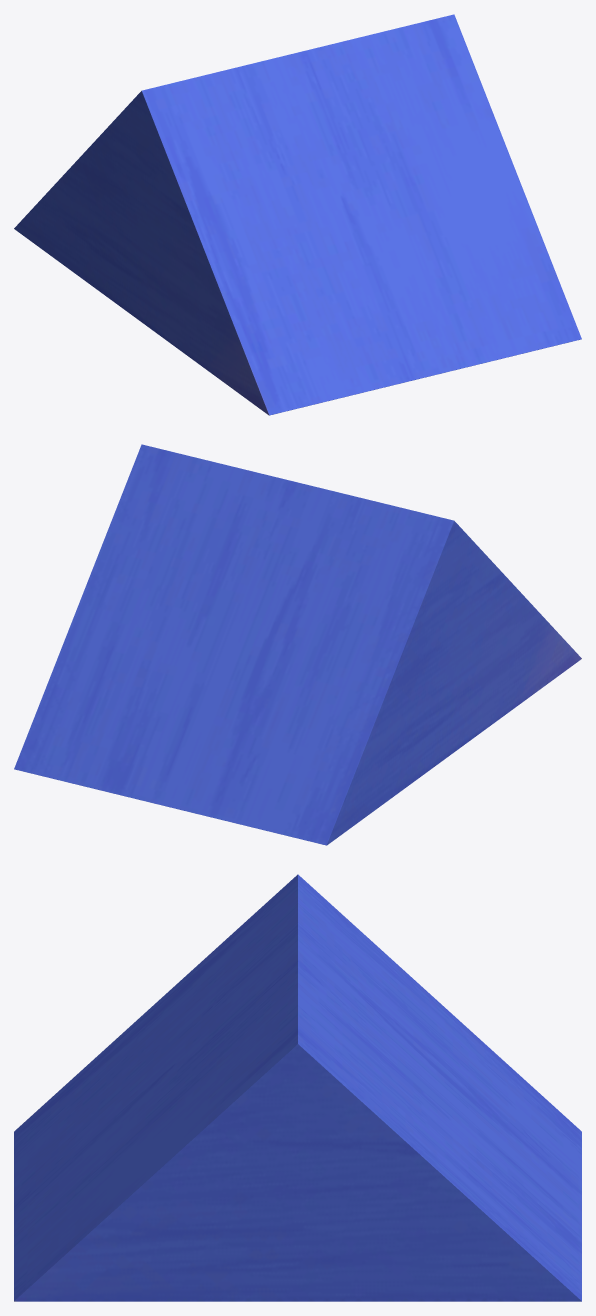
Rendered from TriangleBlock_Blue.fbx.
3 renders of one model, top to bottom at view 1: azimuth 30°, elevation 25°; view 2: azimuth 150°, elevation 25°; view 3: azimuth 270°, elevation 25°, orthographic. The views are drawn at different scales.
Parts seen in each view (by area): view 1: Cube.009; view 2: Cube.009; view 3: Cube.009.
Part boxes in pixels (x1,y1,x2,y2): Cube.009: (14,14,581,415); Cube.009: (14,444,581,845); Cube.009: (14,874,581,1301).
Bounding box in the file's own units: 100 × 70.8 × 141.
